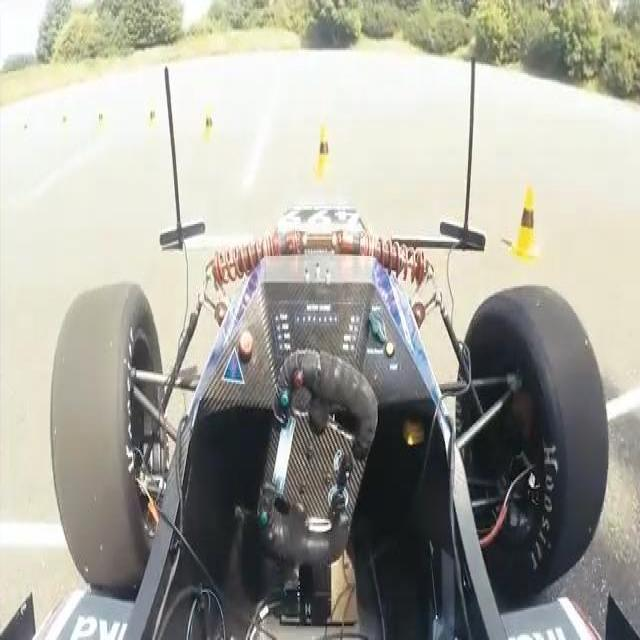yellow_cone: (511, 185, 541, 261), (314, 122, 336, 180)
